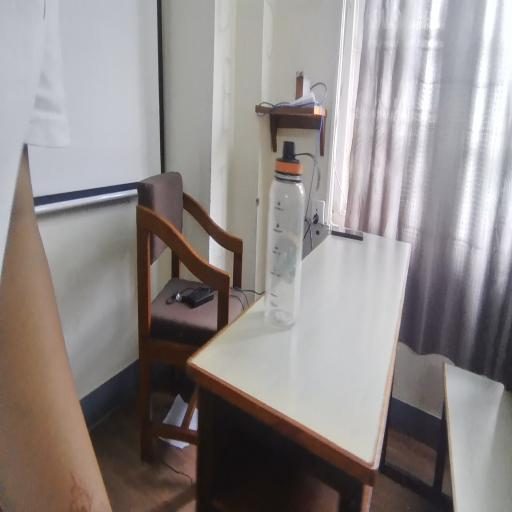Bottle: (273, 143, 312, 326)
